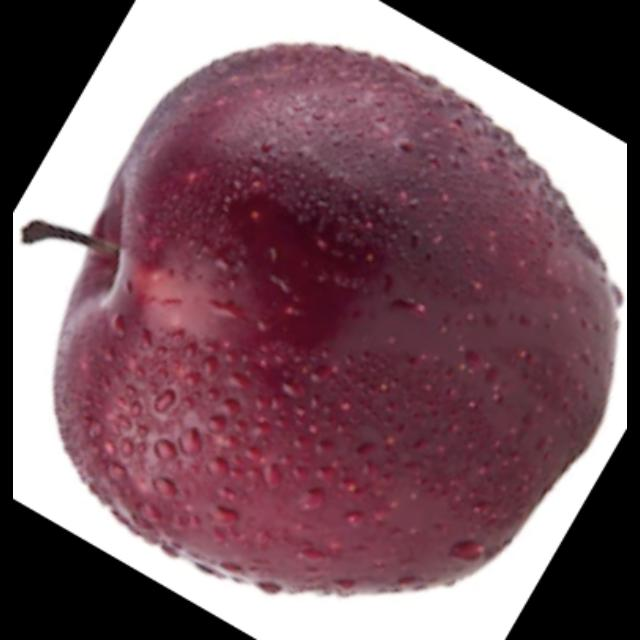Apel Segar: (58, 46, 620, 600)
